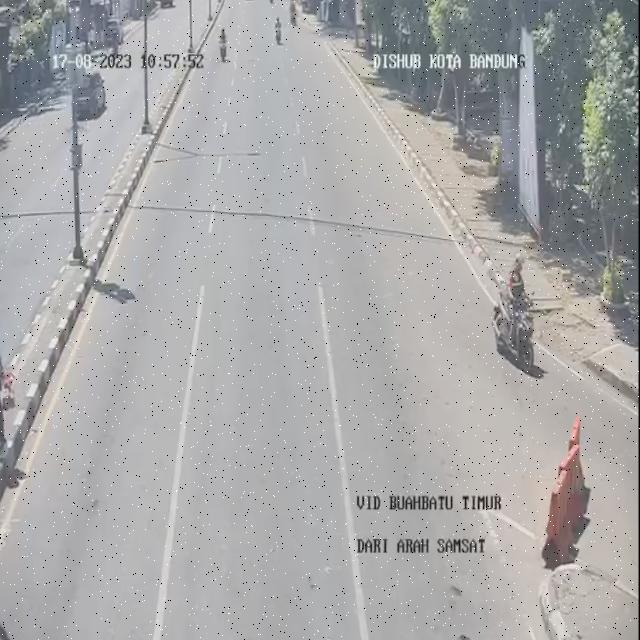motorcycle: (495, 256, 540, 368), (218, 25, 231, 64), (272, 14, 285, 47), (291, 0, 302, 26), (287, 0, 298, 26), (266, 0, 282, 7)
